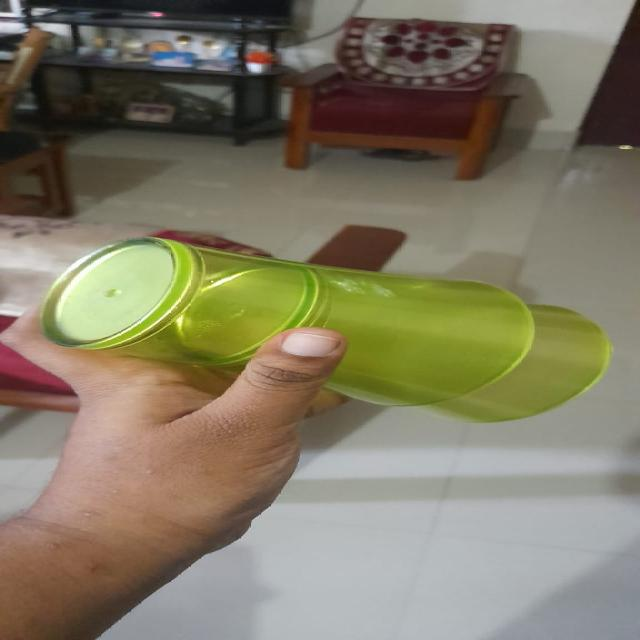Plastic - Recyclable: (37, 234, 613, 423)
